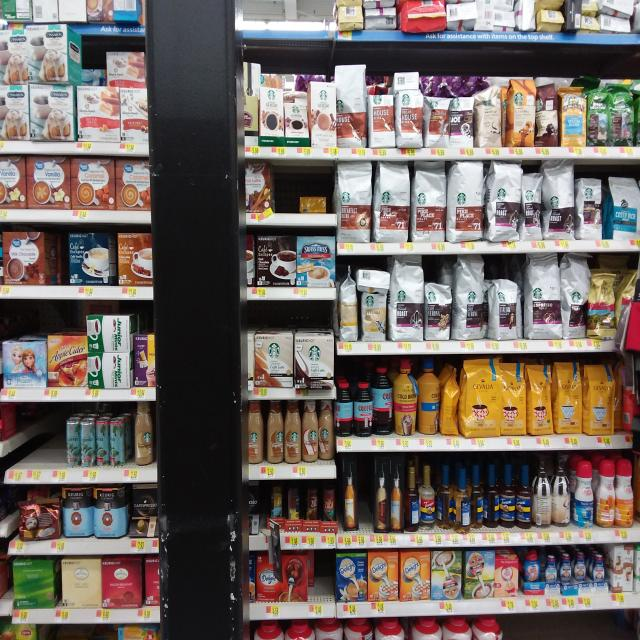unorganised: (435, 459, 485, 534), (85, 315, 133, 388), (336, 59, 367, 149), (456, 254, 485, 342), (562, 254, 589, 338), (103, 48, 148, 87), (416, 363, 440, 436), (438, 368, 459, 437), (612, 365, 630, 436), (552, 462, 571, 527), (533, 464, 552, 527), (484, 460, 500, 530), (334, 378, 352, 438), (298, 191, 329, 215)
